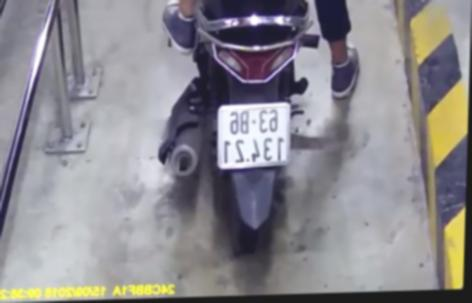License_Plate: (206, 98, 303, 179)
